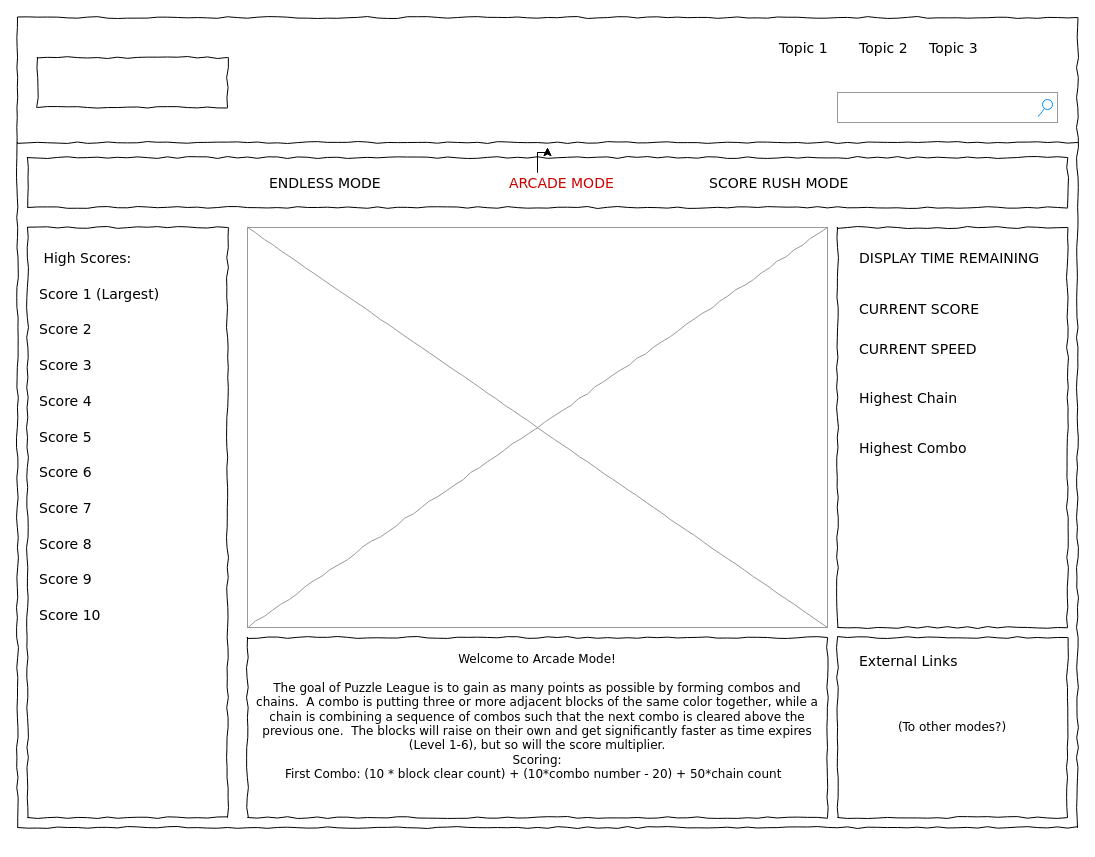
The diagram is 1095 pixels wide and 857 high, and some of its shapes have lost their labels. The shapes that lost their labels are listed below. From the top down, each one's box as (x1, y1, x2, y2) in pixels, then its label:
(36, 56, 228, 108): PUZZLE LEAGUE CLONE
(836, 92, 1058, 122): Search
